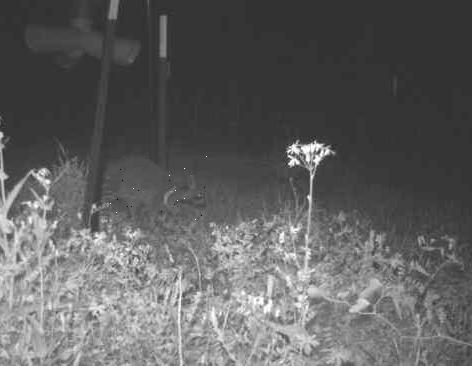Raccoon: (103, 157, 206, 225)
